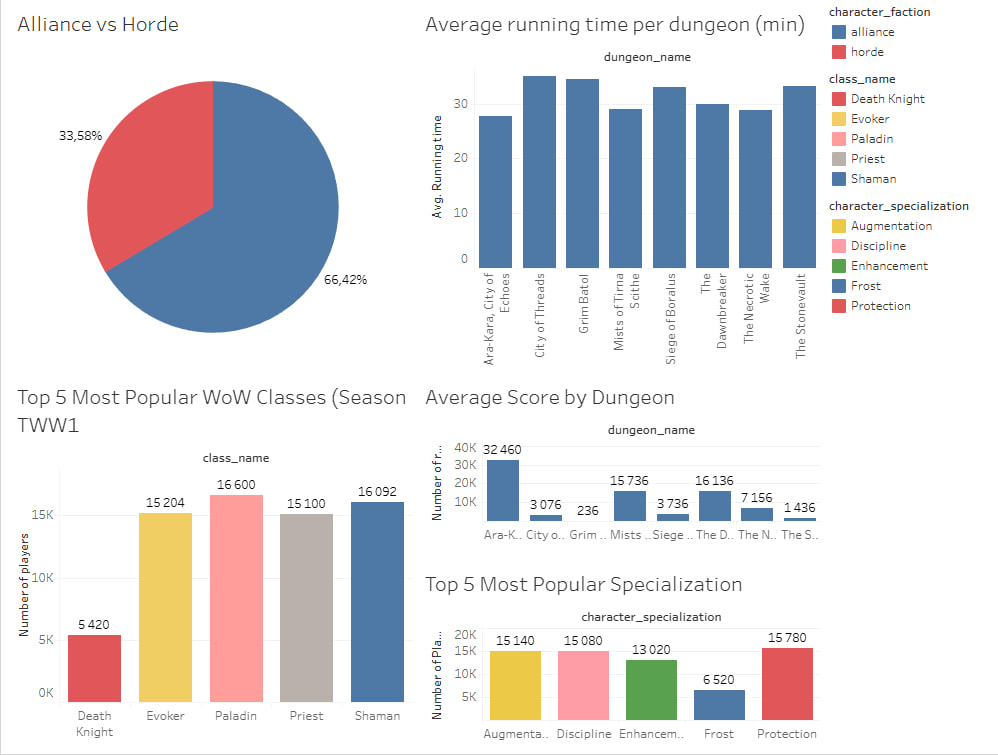

Layout of this report page (visuals, bound fields, positions):
{"tool":"tableau","page":{"name":"Mythic+ Analytics: Season TWW1 (EU & US)","canvas":[1000,800],"ordinal":0},"visuals":[{"type":"title","box":[8,8,984,37]},{"type":"worksheet","title":"Alliance vs Horde","mark":"Pie","box":[8,45,408,373.5]},{"type":"worksheet","title":"Average run time per dungeon","mark":"Automatic","rows":["Calculation_14566394527117327"],"cols":["dungeon_name"],"box":[416,45,408,373.5]},{"type":"legend","title":"Alliance vs Horde","param":"[federated.0pt0yxf1phddem12xq9j51d6gip0].[none:character_faction:nk]","box":[824,45,168,67]},{"type":"legend","title":"Top 5 Most Popular WoW Classes (Season TWW1","param":"[federated.0pt0yxf1phddem12xq9j51d6gip0].[none:class_name:nk]","box":[824,112,168,127]},{"type":"legend","title":"Top 5 Most Popular Specialization","param":"[federated.0pt0yxf1phddem12xq9j51d6gip0].[none:character_specialization:nk]","box":[824,239,168,127]},{"type":"worksheet","title":"Top 5 Most Popular WoW Classes (Season TWW1","mark":"Automatic","rows":["character_id"],"cols":["class_name"],"box":[8,418.5,408,373.5]},{"type":"worksheet","title":"Average Score by Dungeon","mark":"Automatic","rows":["run_id"],"cols":["dungeon_name"],"box":[416,418.5,408,186.7]},{"type":"worksheet","title":"Top 5 Most Popular Specialization","mark":"Automatic","rows":["character_id"],"cols":["character_specialization"],"box":[416,605.2,408,186.8]}]}

Visuals, with their boxes on the page's 1000x800 design canvas (x1, y1, x2, y2). These are canvas units, not pixel positions in the 998x755 screenshot, which may show the page scaled, cropped or inside an application window:
title: <region>8, 8, 992, 45</region>
"Alliance vs Horde" worksheet (Pie marks): <region>8, 45, 416, 418</region>
"Average run time per dungeon" worksheet: <region>416, 45, 824, 418</region>
"Alliance vs Horde" legend: <region>824, 45, 992, 112</region>
"Top 5 Most Popular WoW Classes (Season TWW1" legend: <region>824, 112, 992, 239</region>
"Top 5 Most Popular Specialization" legend: <region>824, 239, 992, 366</region>
"Top 5 Most Popular WoW Classes (Season TWW1" worksheet: <region>8, 418, 416, 792</region>
"Average Score by Dungeon" worksheet: <region>416, 418, 824, 605</region>
"Top 5 Most Popular Specialization" worksheet: <region>416, 605, 824, 792</region>
